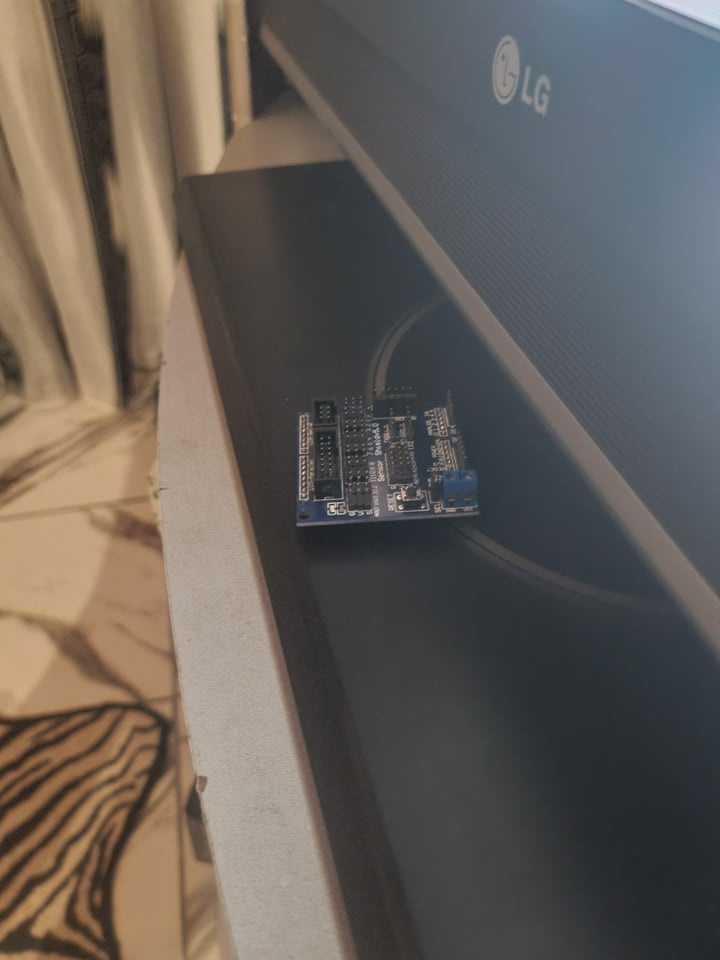5V EXPANSION: (290, 384, 480, 526)
